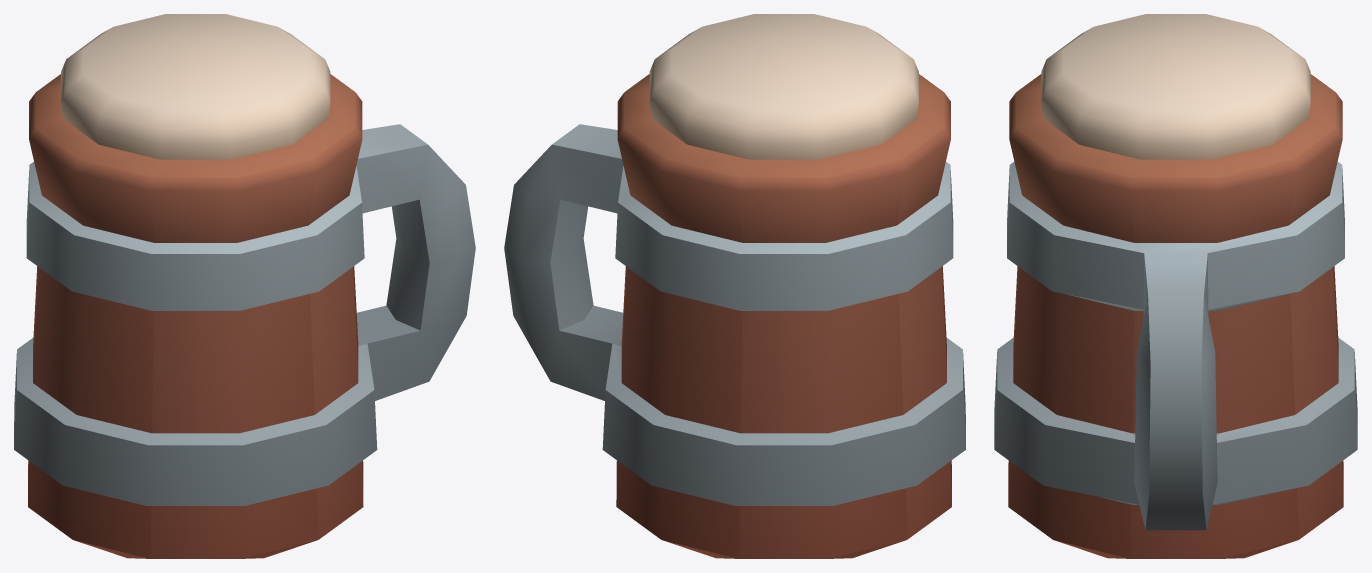
Rendered from mug_full.glb.
The picture shows the model from 3 angles, left to right: view 1: azimuth 30°, elevation 25°; view 2: azimuth 150°, elevation 25°; view 3: azimuth 270°, elevation 25°; orthographic projection.
Bounding box in the file's own units: 0.5342 × 0.5484 × 0.396.
1 material, 1 textured.
